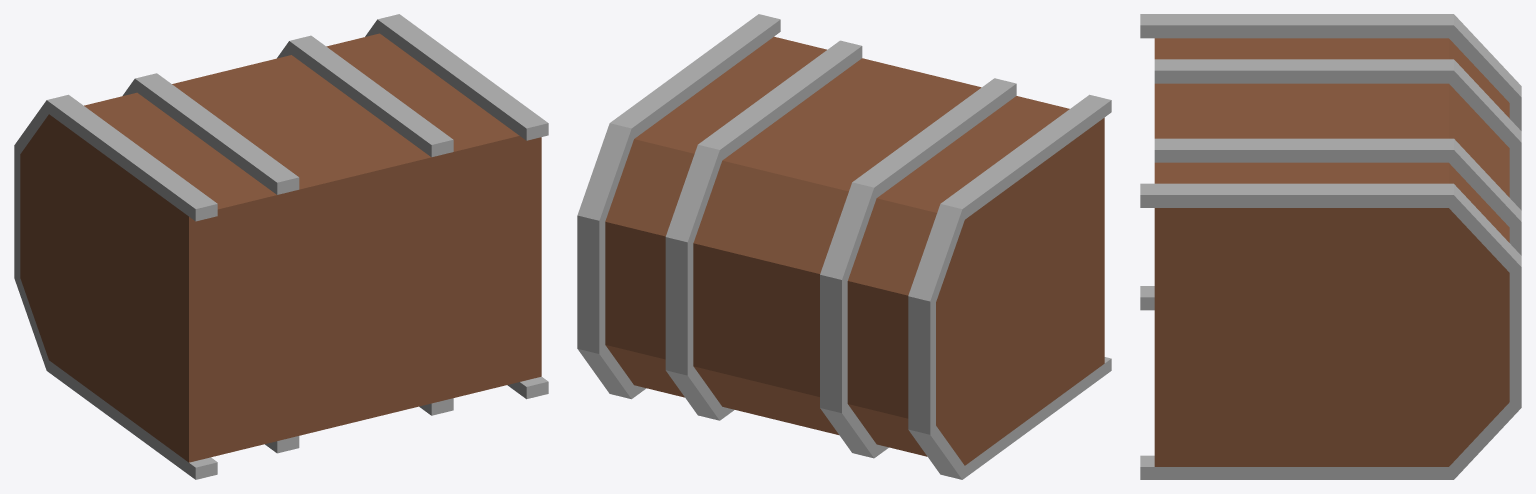
File: Chest.fbx
The picture shows the model from 3 angles, left to right: view 1: azimuth 30°, elevation 25°; view 2: azimuth 150°, elevation 25°; view 3: azimuth 270°, elevation 25°; orthographic projection. The views are drawn at different scales.
Visible parts, largest first — view 1: Chest, ChestLid; view 2: ChestLid, Chest; view 3: Chest, ChestLid.
Boxes of the visible parts, bbox=[...] form: Chest: bbox=[87, 44, 548, 479]; ChestLid: bbox=[14, 14, 440, 399]; ChestLid: bbox=[577, 93, 1003, 479]; Chest: bbox=[651, 14, 1111, 449]; Chest: bbox=[1140, 14, 1368, 479]; ChestLid: bbox=[1366, 14, 1521, 479].
Bounding box in the file's own units: 12656 × 9465 × 11267.
